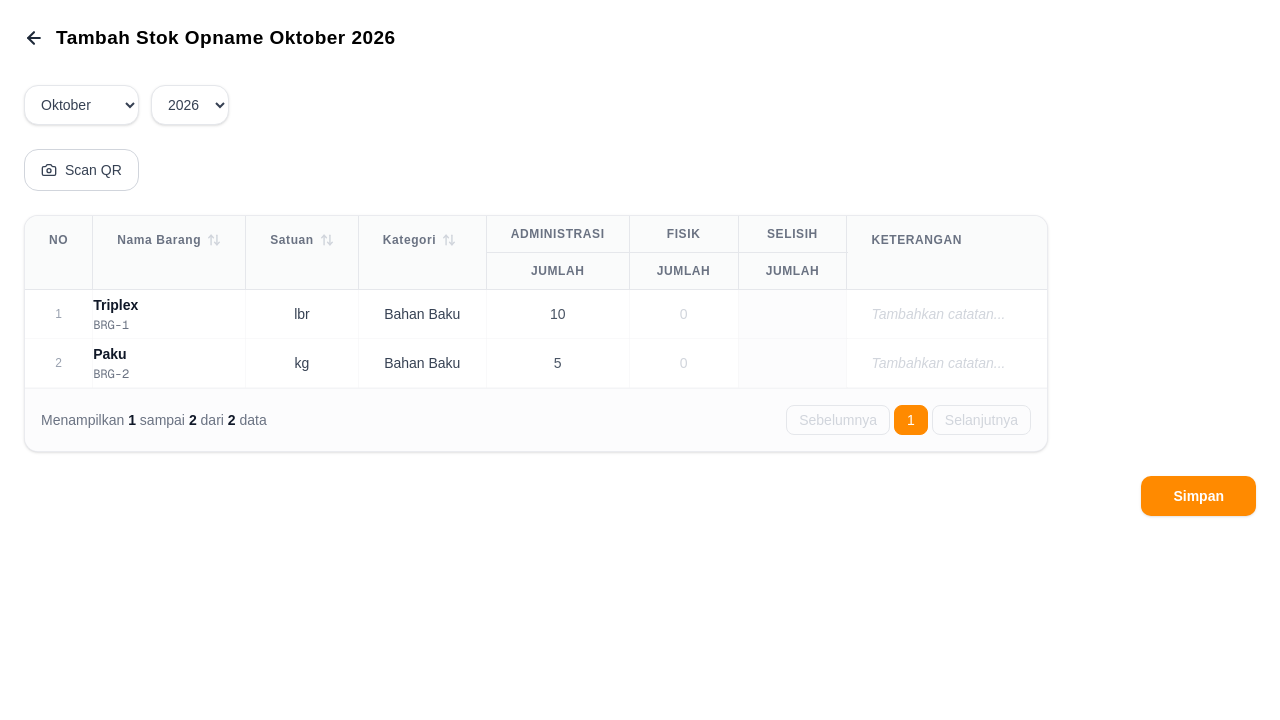
Test: StockOpnameTambah › input restrictions: digits only, maxLength 9 and 255
Expected: the text "Triplex" is shown, [93,296,138,312]
Type "-1e2.5" into the field with placeholder "0" in the row of "Triplex" at (684, 314), box [630,290,738,338]
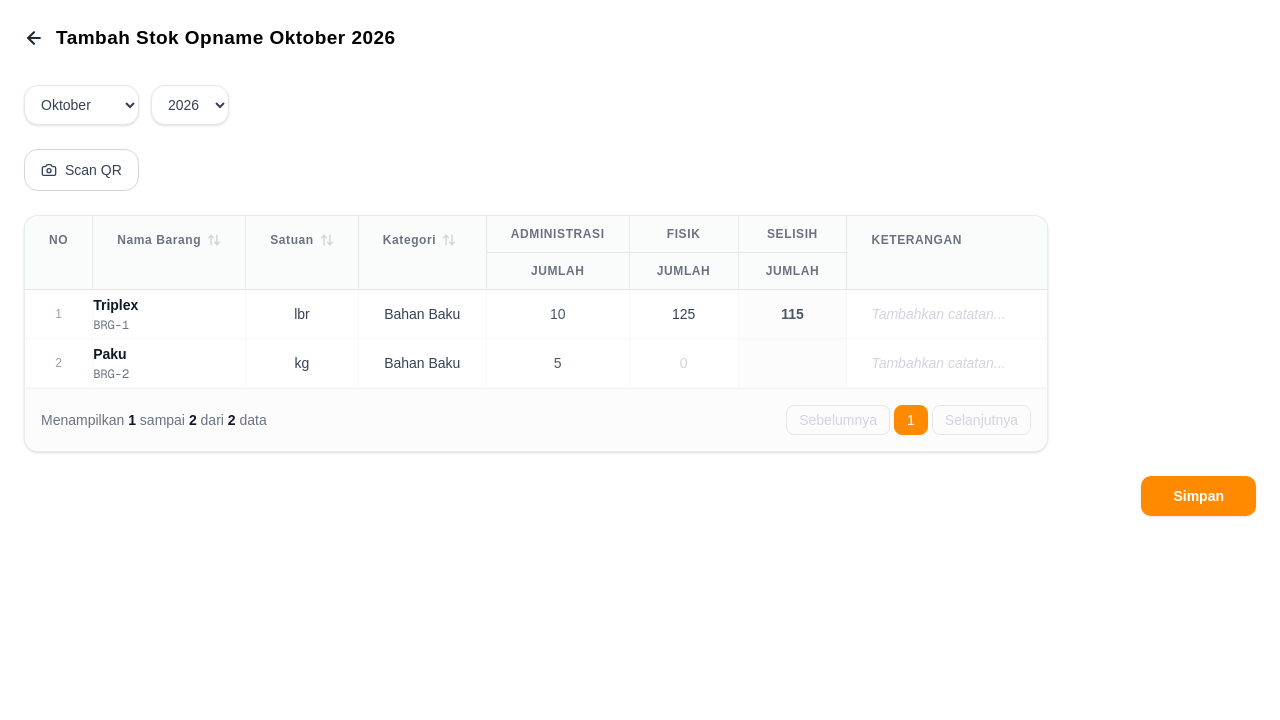
Expected: the 3rd field with placeholder "0" holds "125", [630,290,738,338]
